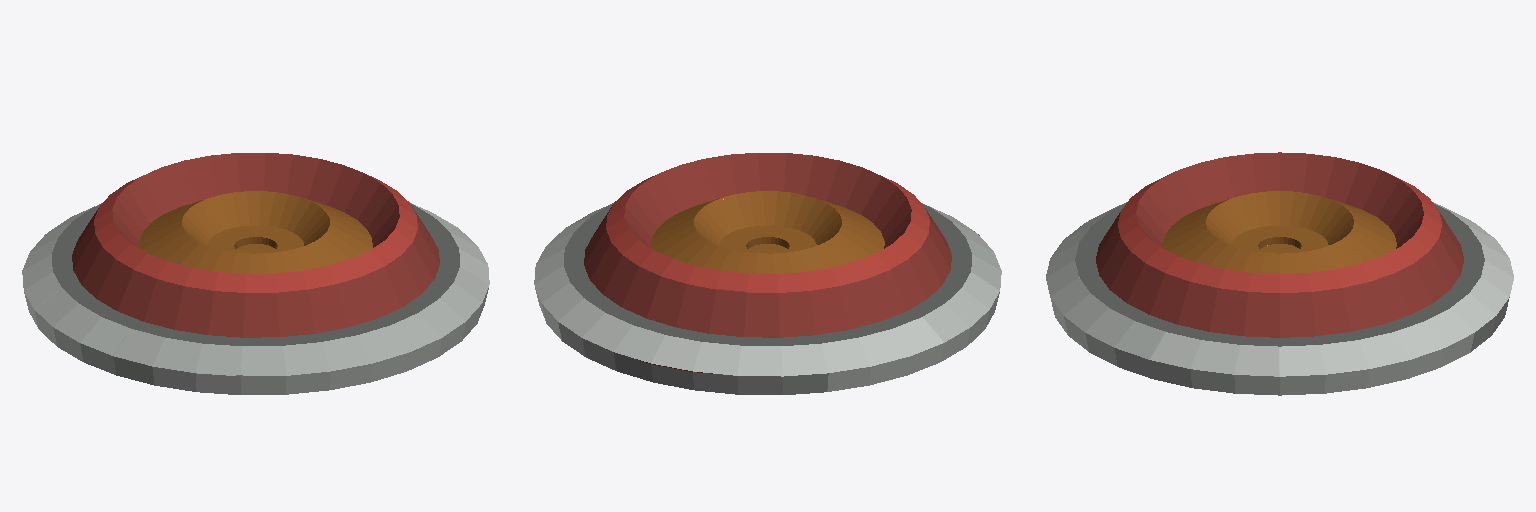
3 renders of one model, left to right at view 1: azimuth 30°, elevation 25°; view 2: azimuth 150°, elevation 25°; view 3: azimuth 270°, elevation 25°, orthographic.
Parts seen in each view (by area): view 1: Leg_Cylinder; view 2: Leg_Cylinder; view 3: Leg_Cylinder.
Boxes of the visible parts, box(x1,y1,x2,y2) form: Leg_Cylinder: box(22, 153, 489, 394); Leg_Cylinder: box(534, 153, 1001, 394); Leg_Cylinder: box(1046, 152, 1513, 395).
Size of the model in its own units: 1.91 by 0.3843 by 1.91.
Materials: 1 (1 with a texture image).